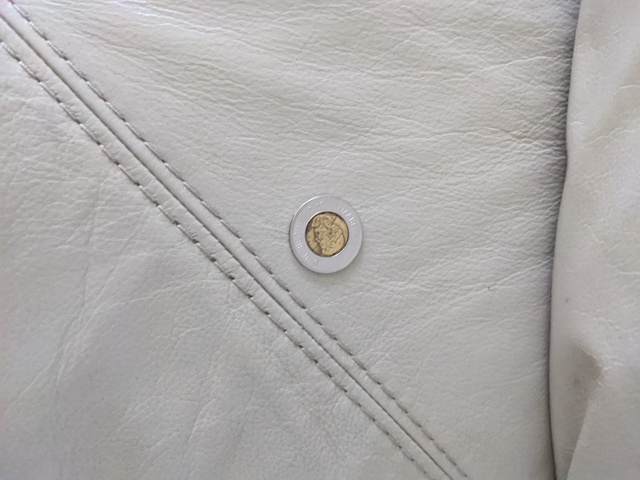twonie: (280, 184, 369, 280)
